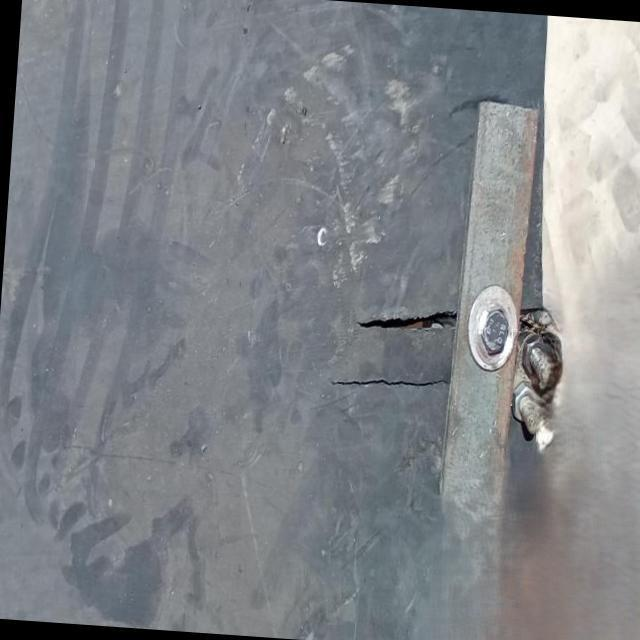Tear: (324, 359, 468, 408), (353, 296, 468, 346)
